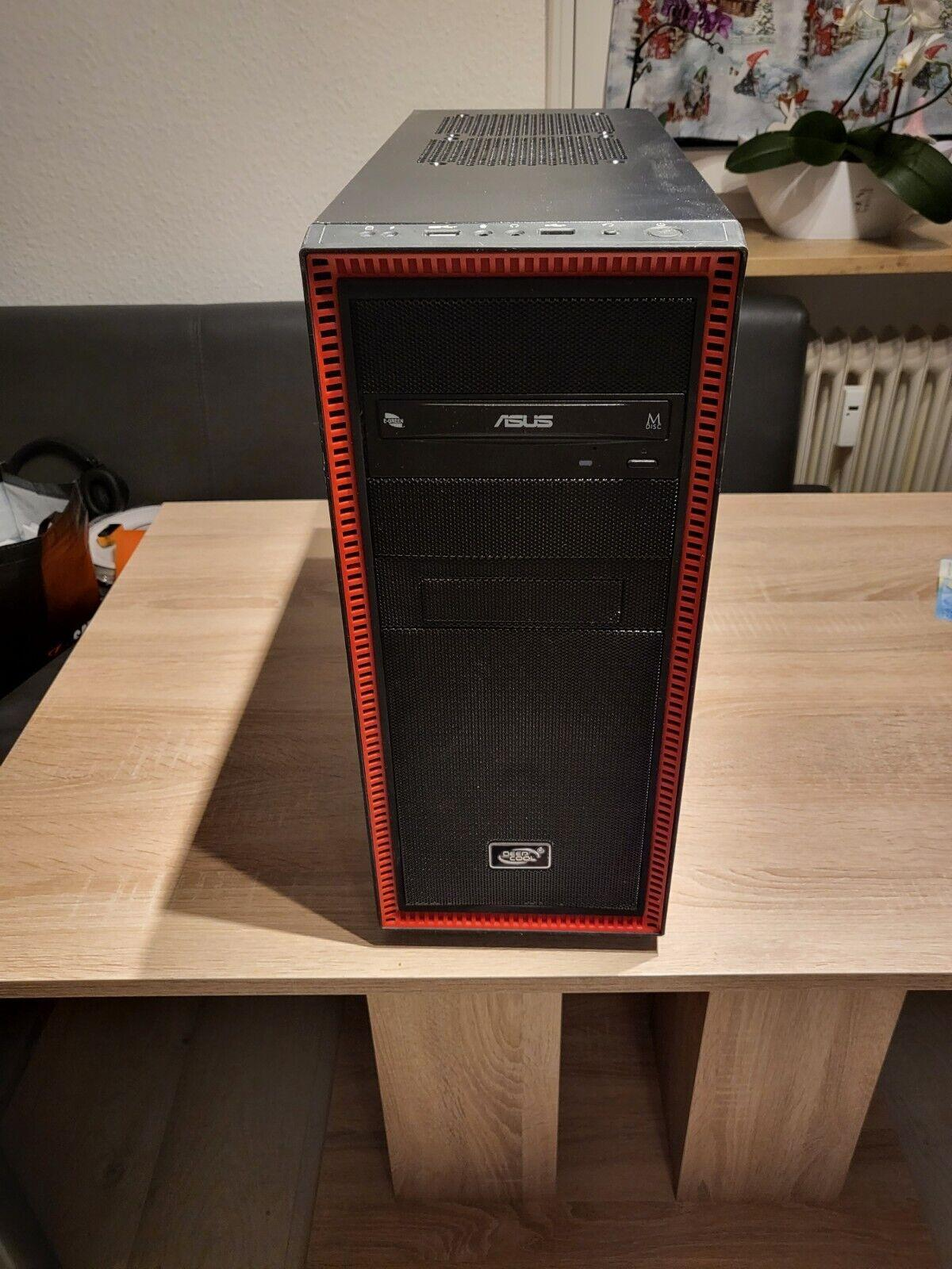computer_tower: (290, 105, 762, 945)
